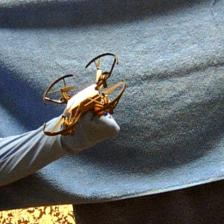drone: (40, 50, 130, 140)
